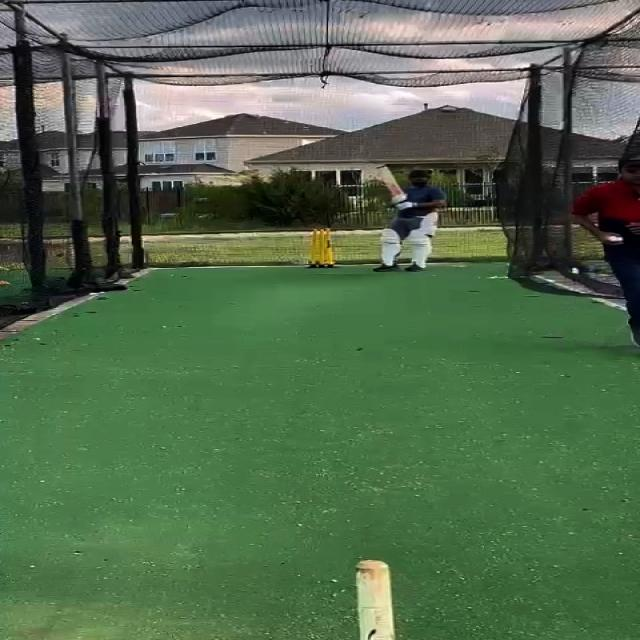batsman: (366, 164, 449, 273)
